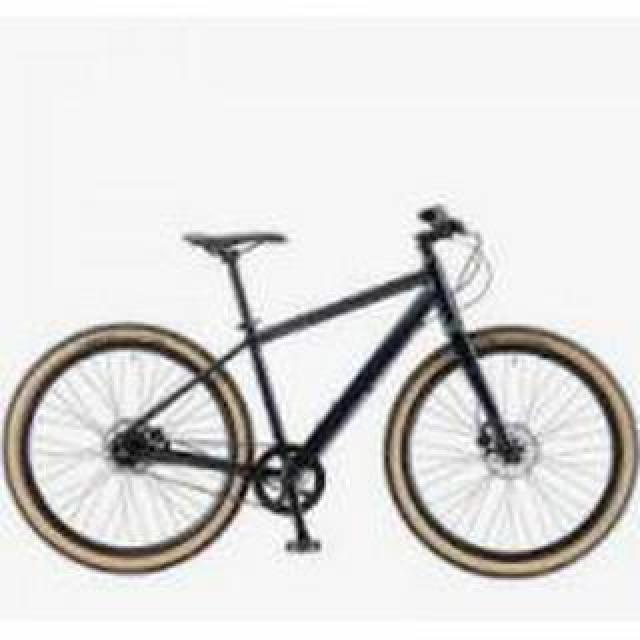Person: (0, 205, 640, 583)
